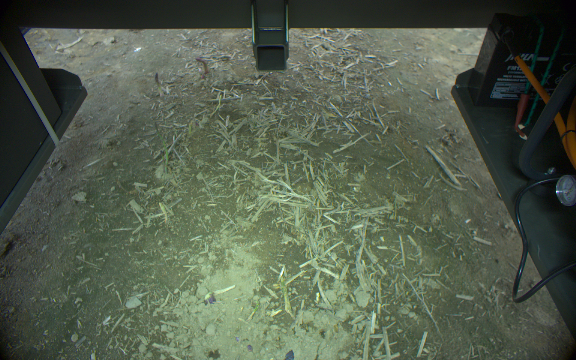aspa: (153, 121, 171, 176), (154, 71, 165, 97), (194, 55, 208, 73)
